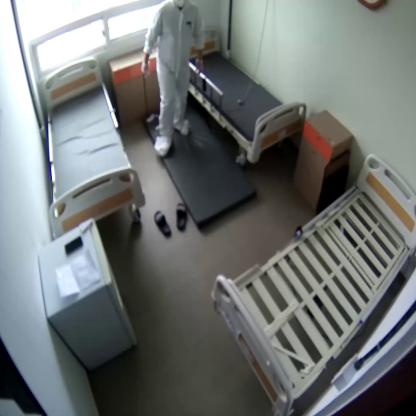Person: (142, 0, 204, 155)
